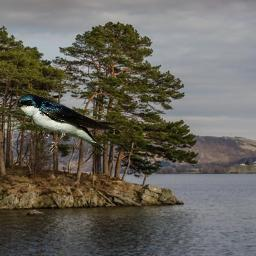Swallow: (15, 93, 121, 156)
